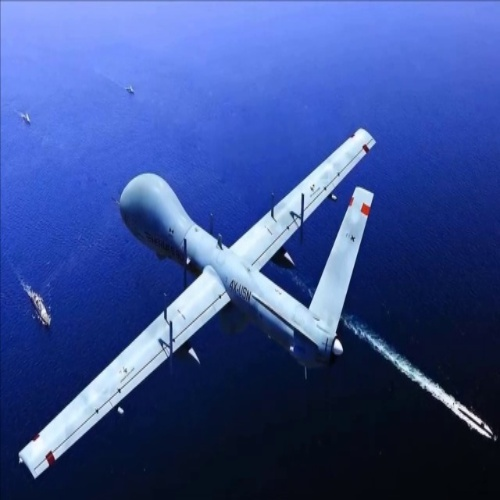uav787: (19, 128, 377, 482)
